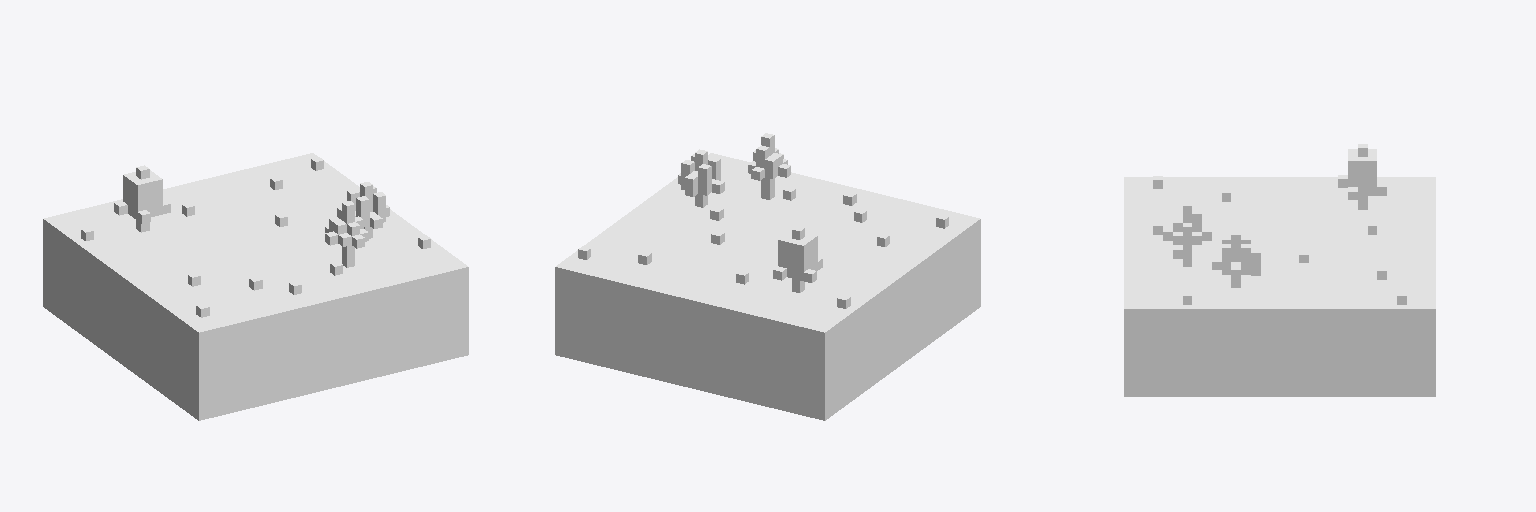
File: Overworld_Land_14.obj
3 views of the same model, side by side, from view 1: azimuth 30°, elevation 25°; view 2: azimuth 150°, elevation 25°; view 3: azimuth 270°, elevation 25° (orthographic).
Parts seen in each view (by area): view 1: object 1; view 2: object 1; view 3: object 1.
Part boxes in pixels (left/top/right/bottom): object 1: left=43, top=153, right=468, bottom=420; object 1: left=555, top=133, right=980, bottom=420; object 1: left=1124, top=144, right=1435, bottom=396.
Size of the model in its own units: 3.2 by 1.7 by 3.2.